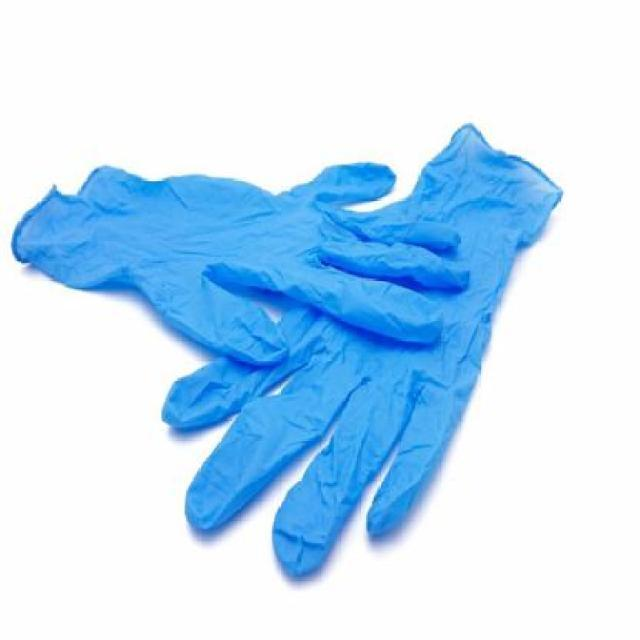glove_hand: (12, 114, 566, 592)
